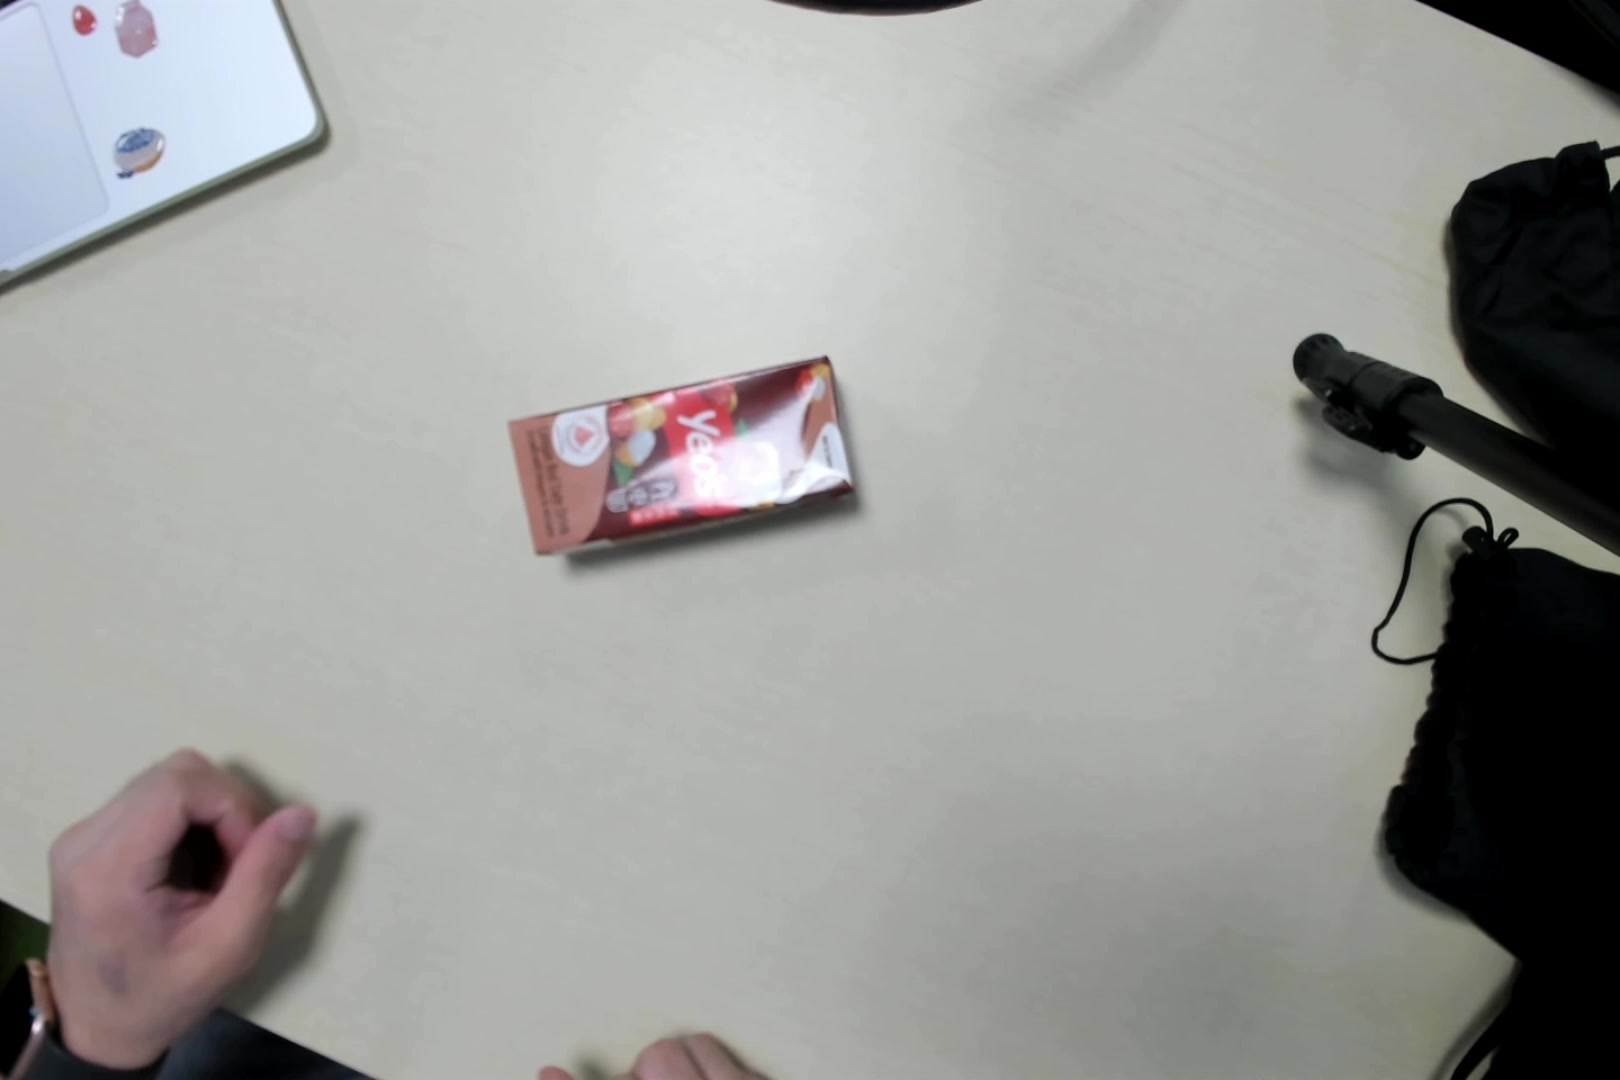TeaDrink_200-299g_Halal_Healthy: (501, 357, 858, 556)
